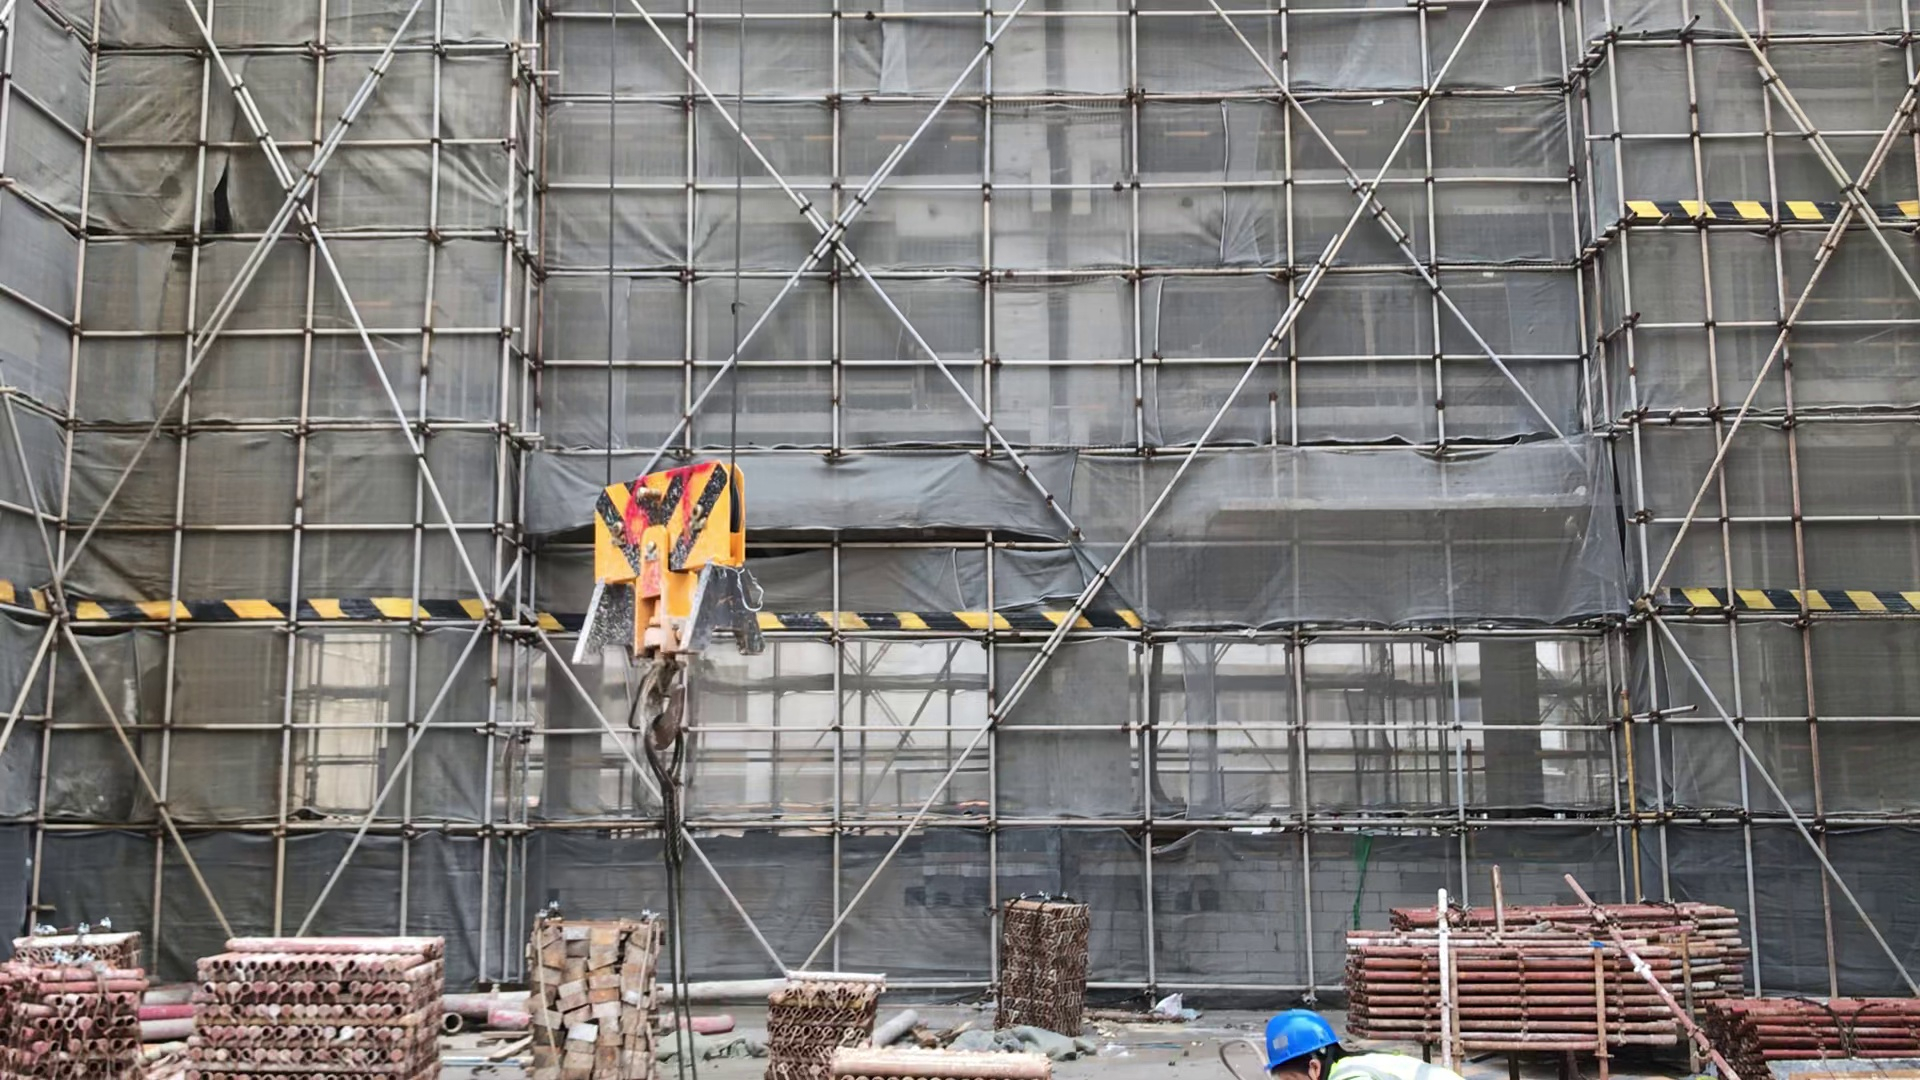helmet: (1255, 1004, 1350, 1073)
hook: (537, 407, 810, 791)
person: (1244, 983, 1512, 1080)
scaffold: (1317, 878, 1920, 1071), (179, 931, 499, 1080), (3, 916, 164, 1080)
vest: (1320, 1042, 1482, 1080)
wood: (521, 900, 677, 1080)
